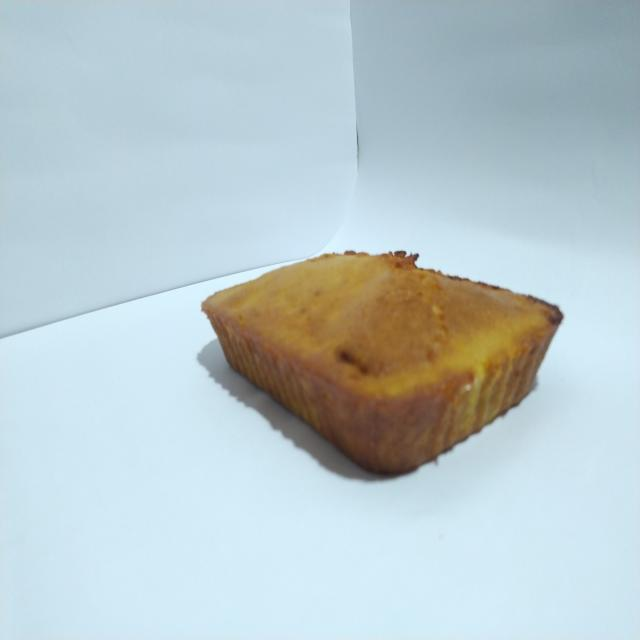Food: (194, 230, 568, 491)
